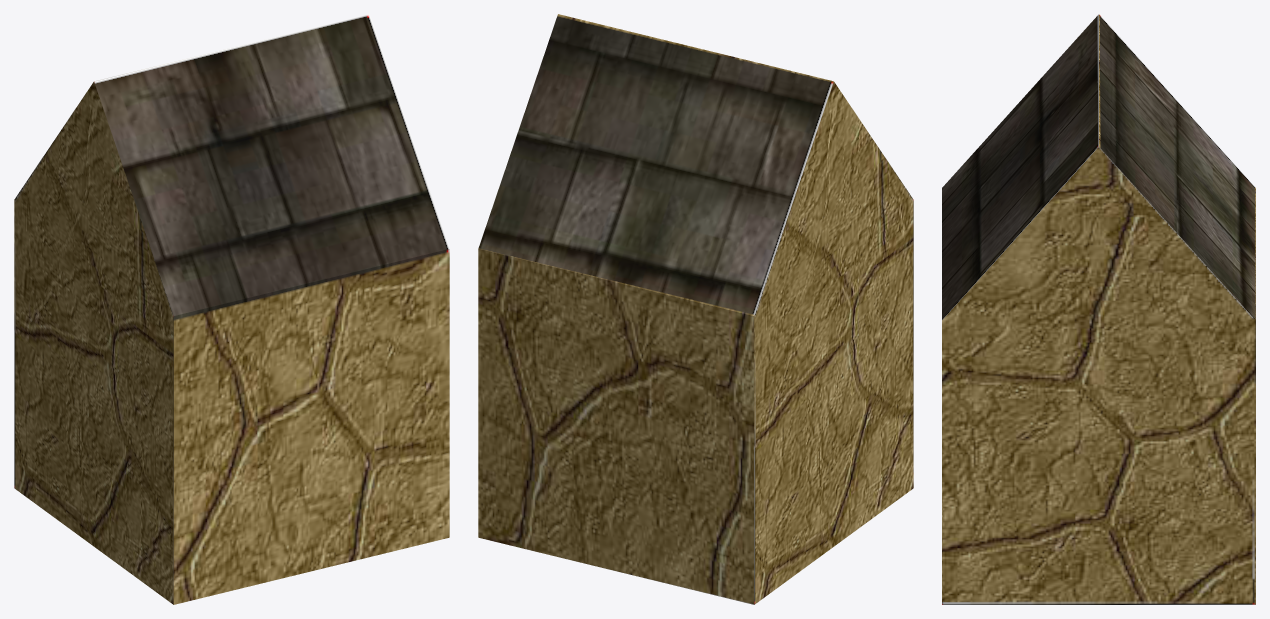
Rendered from house.dae.
The picture shows the model from 3 angles, left to right: view 1: azimuth 30°, elevation 25°; view 2: azimuth 150°, elevation 25°; view 3: azimuth 270°, elevation 25°; orthographic projection.
Visible parts, largest first — view 1: Cube; view 2: Cube; view 3: Cube.
Part boxes in pixels (<box>): Cube: <box>14,14,449,604</box>; Cube: <box>478,14,913,604</box>; Cube: <box>942,14,1255,604</box>.
Bounding box in the file's own units: 2 × 2 × 3.22.
Materials: 1 (1 with a texture image).
